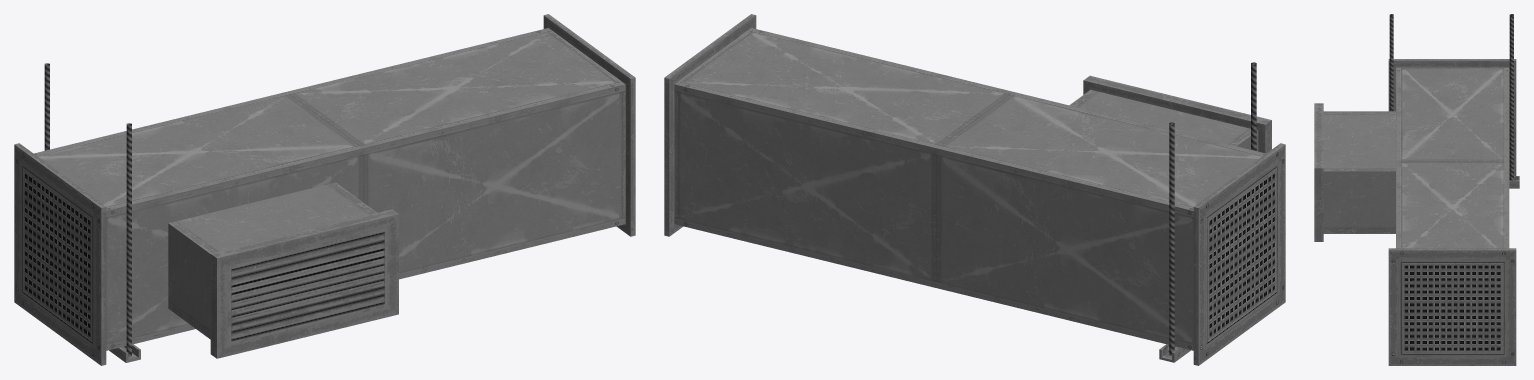
Rendered from HH_Ventilation_2m_04.fbx.
3 views of the same model, side by side, from view 1: azimuth 30°, elevation 25°; view 2: azimuth 150°, elevation 25°; view 3: azimuth 270°, elevation 25° (orthographic). The views are drawn at different scales.
Visible parts, largest first — view 1: HH_Ventilation_2m_04; view 2: HH_Ventilation_2m_04; view 3: HH_Ventilation_2m_04.
Part boxes in pixels (bbox=[...]): HH_Ventilation_2m_04: bbox=[14, 14, 635, 365]; HH_Ventilation_2m_04: bbox=[664, 14, 1285, 365]; HH_Ventilation_2m_04: bbox=[1314, 14, 1519, 365].
Bounding box in the file's own units: 200 × 83.44 × 90.92.
